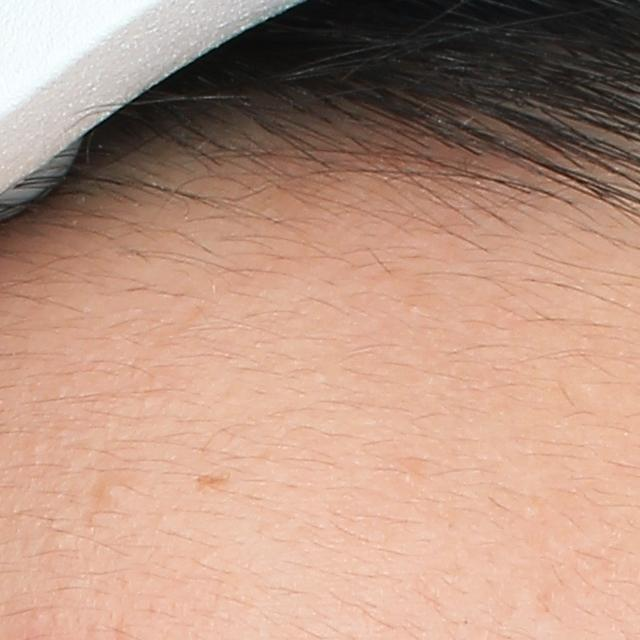atrophic_scar: (194, 472, 227, 490)
comedo: (91, 480, 121, 510), (403, 299, 425, 316)
